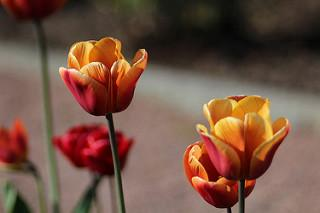tulip: (197, 94, 293, 171), (59, 36, 149, 118)
